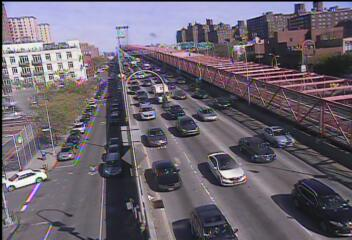neg: (164, 98, 196, 141), (215, 161, 239, 193), (80, 74, 96, 96), (8, 9, 23, 29), (83, 58, 95, 74), (62, 37, 68, 45), (114, 52, 119, 58), (116, 61, 120, 68)
